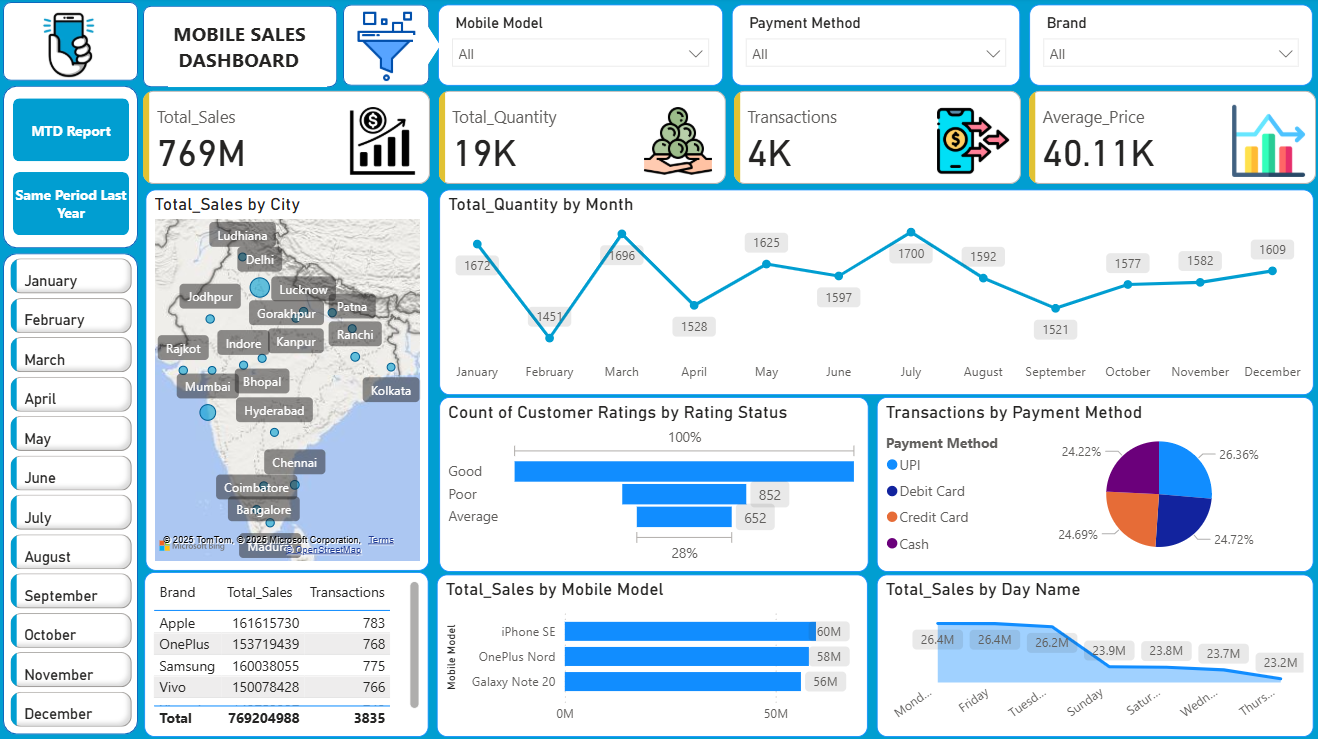

The page's visual inventory and layout, read from the dashboard file:
{"tool":"powerbi","page":{"name":"Dashboard","canvas":[1280,720],"ordinal":0},"visuals":[{"type":"shape","box":[4.8,4.8,130.3,76],"z":0},{"type":"image","box":[22.9,0,90.5,90.5],"z":1000},{"type":"shape","box":[4.8,85.7,130.3,156.8],"z":2000},{"type":"shape","box":[4.8,247.3,130.3,464.5],"z":3000},{"type":"advancedSlicerVisual","fields":{"Values":["Custom_Calendar.Date.Variation.Date Hierarchy.Month"]},"box":[6.9,247,127.6,466.6],"z":4000},{"type":"cardVisual","fields":{"Data":["Sales_Data.Total_Sales","Sales_Data.Total_Quantity","Sales_Data.Transactions","Sales_Data.Average_Price"]},"box":[135.1,85.7,1144.9,100.1],"z":5000},{"type":"slicer","fields":{"Values":["Sales_Data.Mobile Model"]},"box":[424.7,7.2,275.1,78.4],"z":6000},{"type":"slicer","fields":{"Values":["Sales_Data.Payment Method"]},"box":[708.2,7.2,278.7,78.4],"z":7000},{"type":"slicer","fields":{"Values":["Sales_Data.Brand"]},"box":[995.3,7.2,273.9,78.4],"z":8000},{"type":"shape","box":[333,7.2,83.2,78.4],"z":9000},{"type":"image","box":[317.3,8.4,114.6,78.4],"z":10000},{"type":"shape","box":[400,26.9,26.2,40.6],"z":11000},{"type":"shape","box":[140,8.8,187.5,78.8],"z":12000},{"type":"textbox","box":[163.8,17.5,153.8,68.8],"z":13000},{"type":"map","fields":{"Category":["Sales_Data.City"],"Size":["Sales_Data.Total_Sales"]},"box":[142.4,185.8,273.9,368],"z":14000},{"type":"lineChart","fields":{"Category":["Custom_Calendar.Date.Variation.Date Hierarchy.Month"],"Y":["Sales_Data.Total_Quantity"]},"box":[425.7,185.7,844.3,198.6],"z":15000},{"type":"funnel","fields":{"Y":["CountNonNull(Sales_Data.Customer Ratings)"],"Category":["Sales_Data.Rating Status"]},"box":[425.4,385.6,414.4,168.8],"z":16000},{"type":"pieChart","fields":{"Y":["Sales_Data.Transactions"],"Category":["Sales_Data.Payment Method"]},"box":[848,385.6,421.3,168.8],"z":17000},{"type":"clusteredBarChart","fields":{"Y":["Sales_Data.Total_Sales"],"Category":["Sales_Data.Mobile Model"]},"box":[424,557.1,415.8,156.4],"z":18000},{"type":"areaChart","fields":{"Y":["Sales_Data.Total_Sales"],"Category":["Custom_Calendar.Day Name"]},"box":[848,557.1,421.3,156.4],"z":19000},{"type":"tableEx","fields":{"Values":["Sales_Data.Brand","Sales_Data.Total_Sales","Sales_Data.Transactions"]},"box":[141.3,554.4,274.4,159.2],"z":20000},{"type":"pageNavigator","box":[14.5,97.7,112.2,133.9],"z":20001}]}

Visuals, with their boxes in screenshot pixels (x1, y1, x2, y2), scaled from the page's 1280x720 canvas onto the 1318x739 screenshot:
shape: Rect(5, 5, 139, 83)
image: Rect(24, 0, 117, 93)
shape: Rect(5, 88, 139, 249)
shape: Rect(5, 254, 139, 731)
advancedSlicerVisual - Custom_Calendar.Date.Variation.Date Hierarchy.Month: Rect(7, 254, 138, 732)
cardVisual - Sales_Data.Total_Sales x Sales_Data.Total_Quantity: Rect(139, 88, 1317, 191)
slicer - Sales_Data.Mobile Model: Rect(437, 7, 721, 88)
slicer - Sales_Data.Payment Method: Rect(729, 7, 1016, 88)
slicer - Sales_Data.Brand: Rect(1025, 7, 1307, 88)
shape: Rect(343, 7, 429, 88)
image: Rect(327, 9, 445, 89)
shape: Rect(412, 28, 439, 69)
shape: Rect(144, 9, 337, 90)
textbox: Rect(169, 18, 327, 89)
map - Sales_Data.City x Sales_Data.Total_Sales: Rect(147, 191, 429, 568)
lineChart - Custom_Calendar.Date.Variation.Date Hierarchy.Month x Sales_Data.Total_Quantity: Rect(438, 191, 1308, 394)
funnel - CountNonNull(Sales_Data.Customer Ratings) x Sales_Data.Rating Status: Rect(438, 396, 865, 569)
pieChart - Sales_Data.Transactions x Sales_Data.Payment Method: Rect(873, 396, 1307, 569)
clusteredBarChart - Sales_Data.Total_Sales x Sales_Data.Mobile Model: Rect(437, 572, 865, 732)
areaChart - Sales_Data.Total_Sales x Custom_Calendar.Day Name: Rect(873, 572, 1307, 732)
tableEx - Sales_Data.Brand x Sales_Data.Total_Sales: Rect(145, 569, 428, 732)
pageNavigator: Rect(15, 100, 130, 238)
